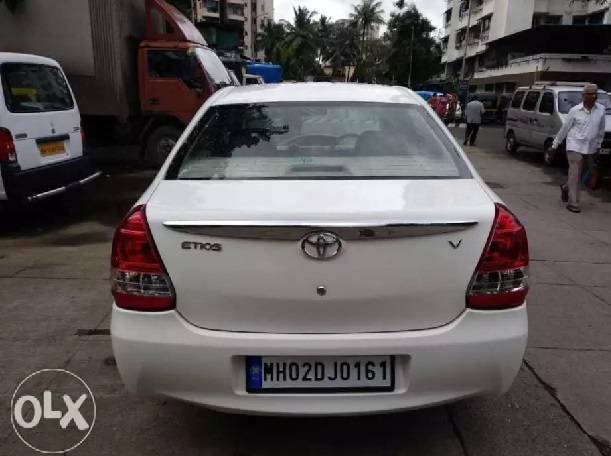licenseplate: (245, 353, 400, 393)
